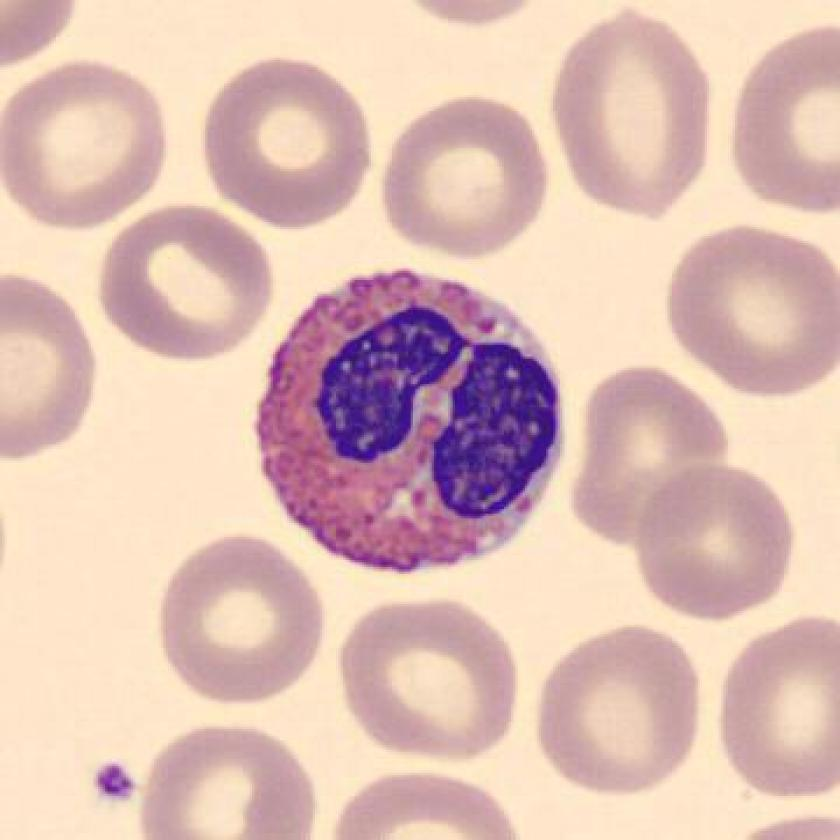eosinophil: (241, 260, 573, 589)
